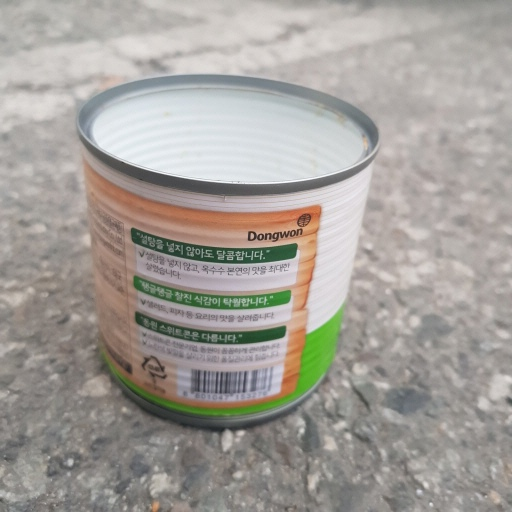Metal_1: (75, 75, 381, 424)
